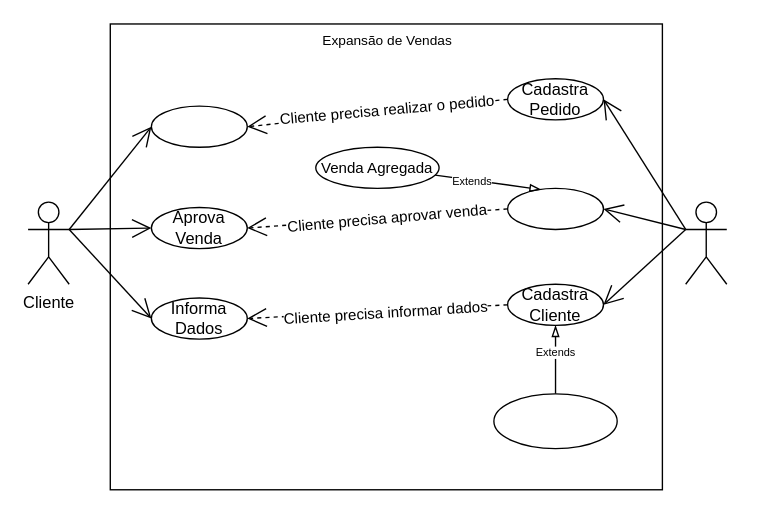
This 764x514 diagram has some shape labels left out. The shapes that lost their labels are listed below. From the top down, each one's box as (x1, y1, x2, y2) in pixels, then its label:
(150, 105, 247, 147): Realiza Pedido
(506, 187, 603, 229): Realiza Venda
(684, 201, 727, 284): Vendedor
(493, 393, 617, 449): Atualiza Perfil Consumo
